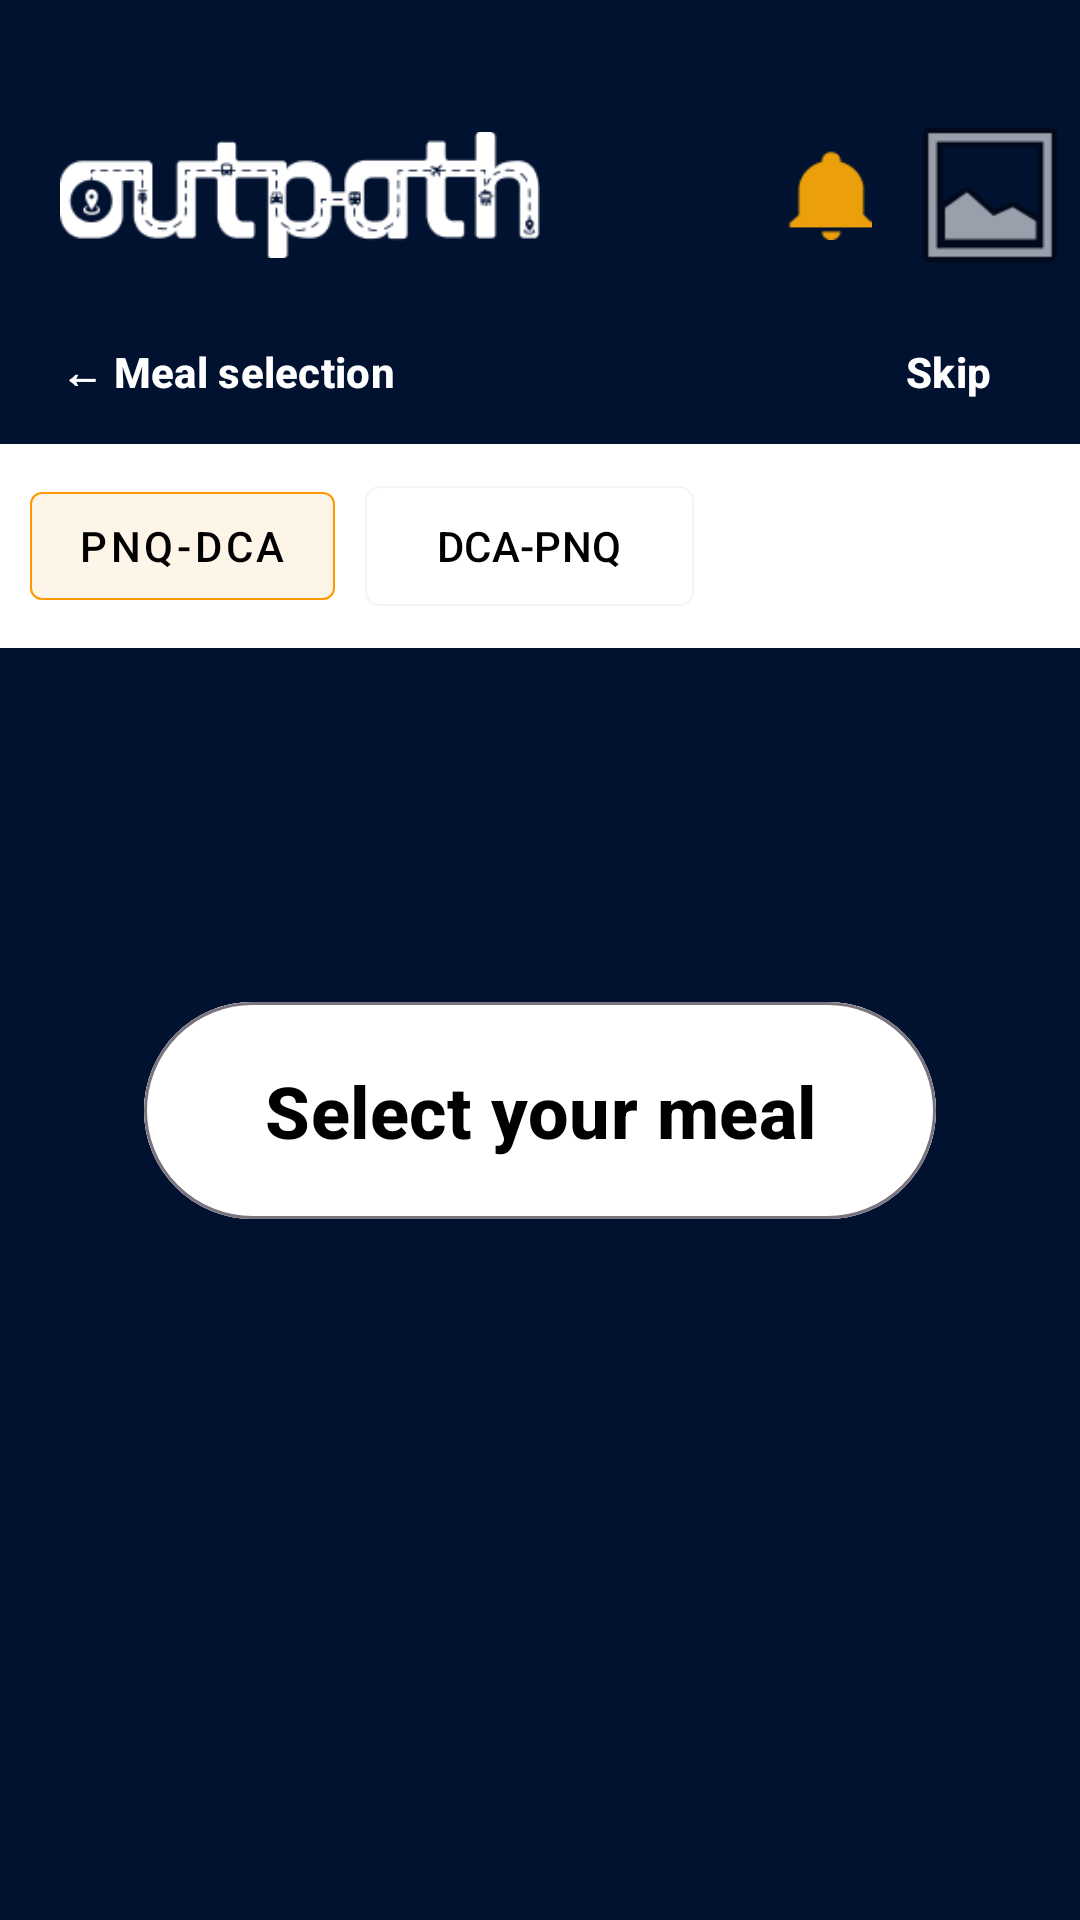

Icons on this 1080w x 1920h Android screen, each with the point to tap as point (x, y):
gallery: point (990, 195)
